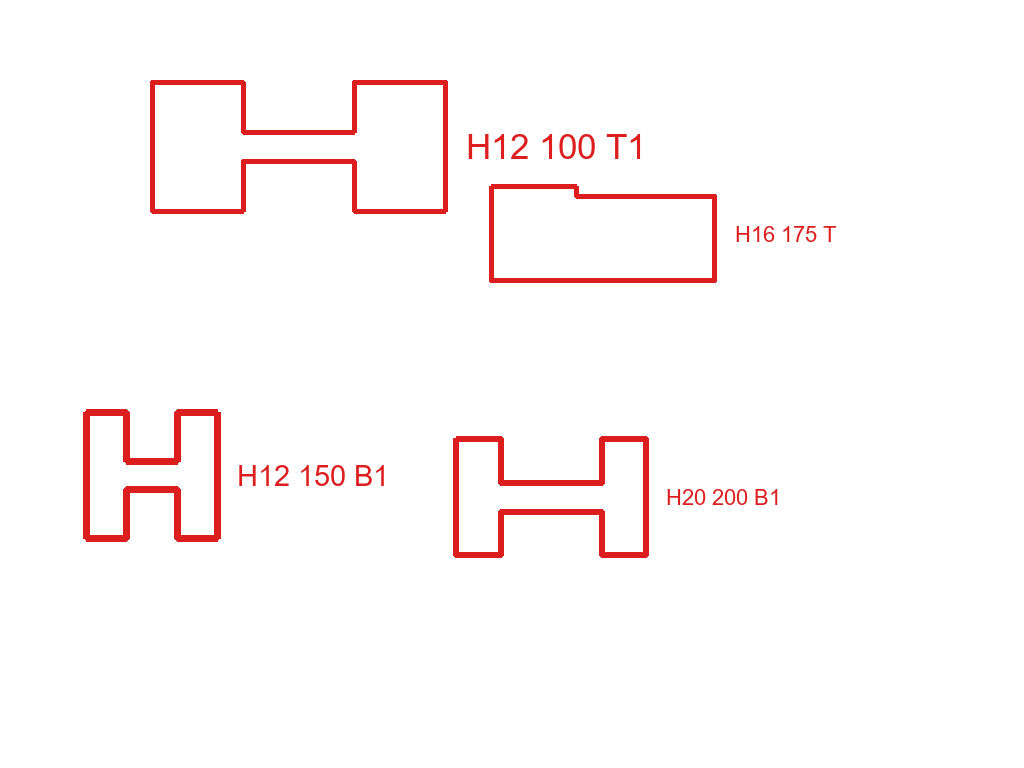shape: (148, 78, 450, 216), (452, 434, 651, 561), (487, 182, 719, 285), (81, 407, 223, 544)
text: (464, 132, 648, 161), (235, 463, 391, 488), (664, 487, 783, 507), (733, 224, 838, 244)
